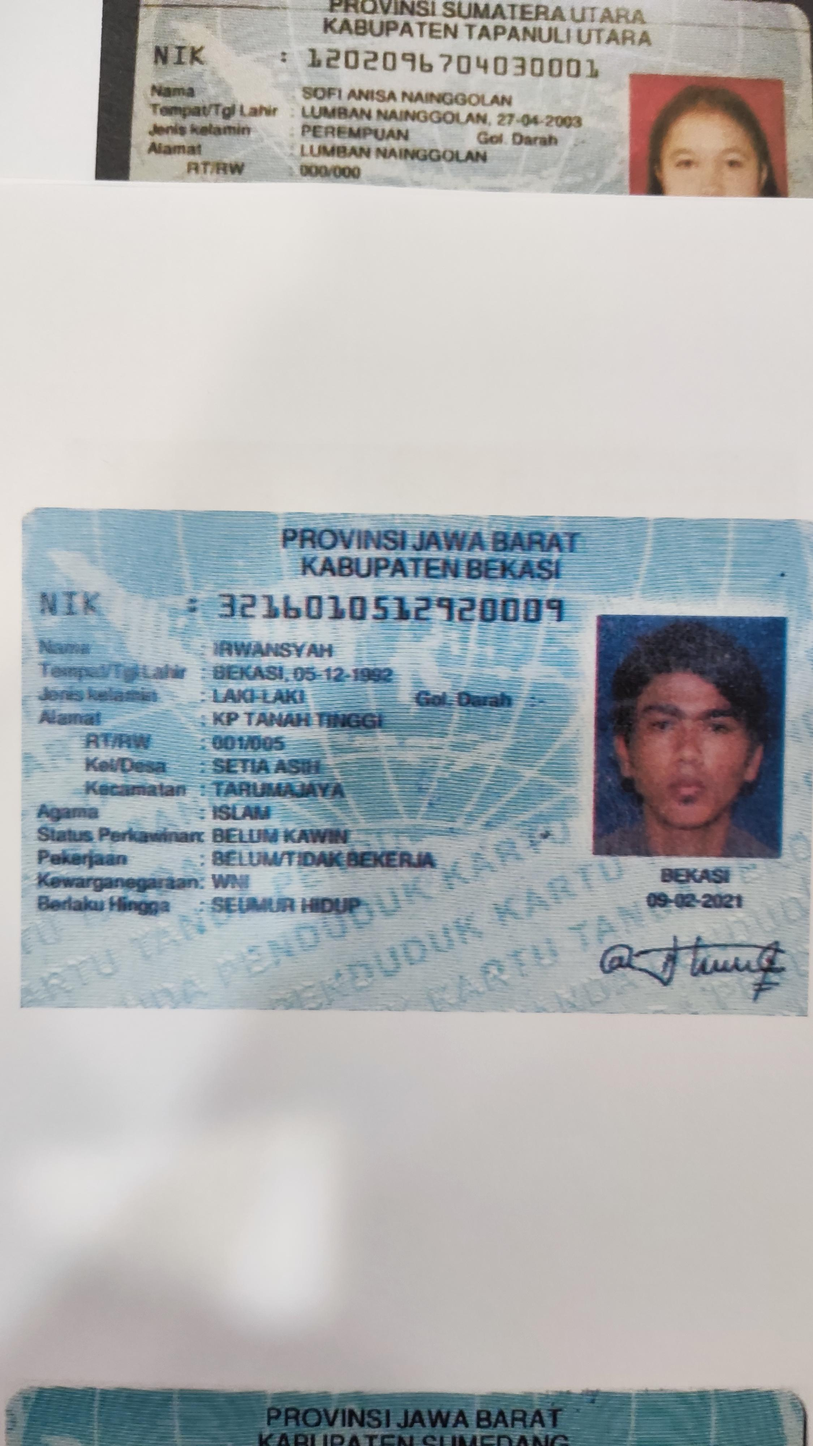ID-card: (22, 506, 811, 1022)
